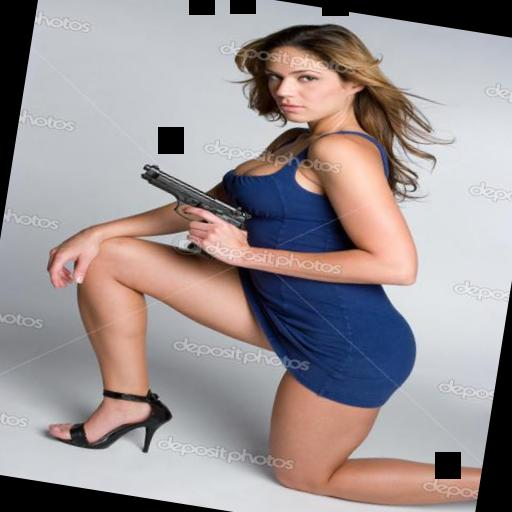Handgun: (114, 157, 256, 268)
